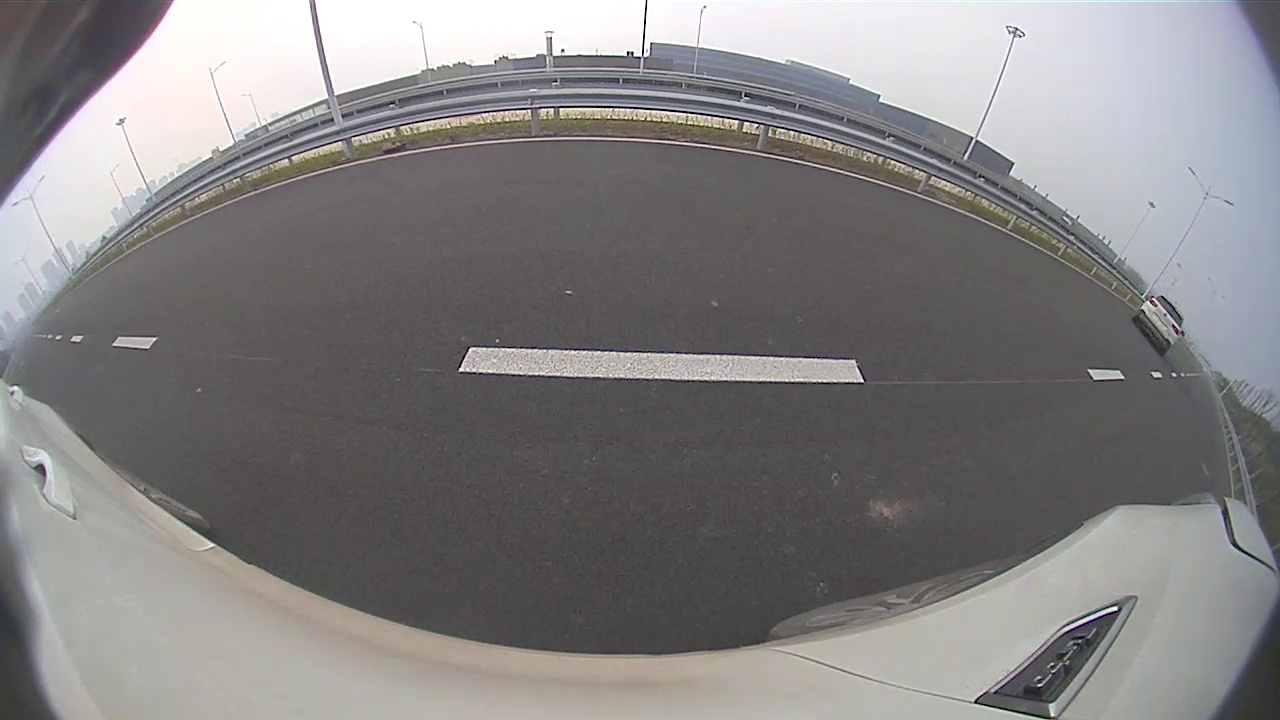car: (660, 153, 702, 187)
